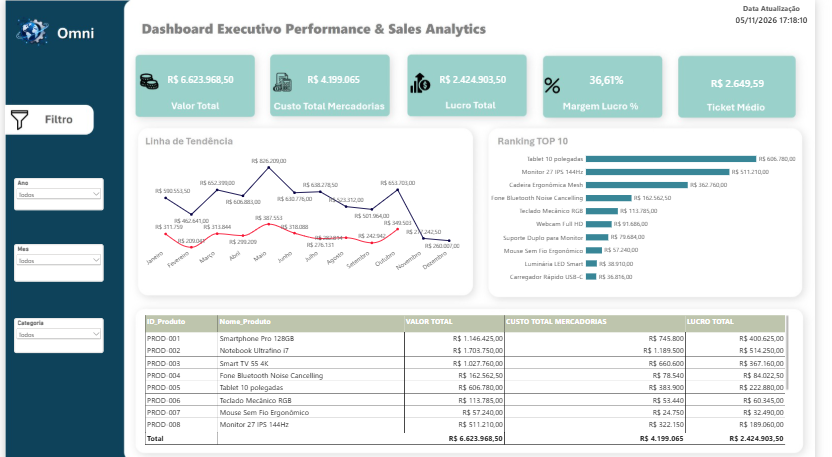

The dashboard page shown, as its layout file describes it:
{"tool":"powerbi","page":{"name":"Painel Gerencial","canvas":[2700,1550],"ordinal":0},"visuals":[{"type":"cardVisual","fields":{"Data":["Medidas.VALOR TOAL"]},"box":[501.9,187.9,297.6,154.3],"z":0},{"type":"cardVisual","fields":{"Data":["Medidas.MARGEM LUCRO %"]},"box":[1871.2,200.8,270.3,128.7],"z":1000},{"type":"cardVisual","fields":{"Data":["Medidas.CUSTO TOTAL MERCADORIAS"]},"box":[952.3,200.8,285.7,128.7],"z":2000},{"type":"cardVisual","fields":{"Data":["Medidas.LUCRO TOTAL"]},"box":[1423.4,185.3,272.8,157.1],"z":3000},{"type":"cardVisual","fields":{"Data":["Medidas.TICKET MEDIO"]},"box":[2306.2,213.6,270.3,128.7],"z":3001},{"type":"lineChart","title":"LINHA DE TENDÊNCIA","fields":{"Category":["dim_calendario.Nome_Mes"],"Y":["Medidas.VALOR TOTAL","Medidas.FATURAMENTO ANO ANTERIOR"]},"box":[450.4,504.5,1081,435],"z":3002},{"type":"tableEx","fields":{"Values":["fato_vendas.ID_Produto","dim_produtos.Nome_Produto","Medidas.VALOR TOTAL","Medidas.CUSTO TOTAL MERCADORIAS","Medidas.LUCRO TOTAL"]},"box":[450.4,1037.3,2177.5,460.7],"z":3003},{"type":"clusteredBarChart","title":"TOP 10 PRODUTOS","fields":{"Category":["dim_produtos.Nome_Produto"],"Y":["Medidas.VALOR TOTAL"]},"box":[1583.8,479,1068.2,486.5],"z":3004},{"type":"slicer","fields":{"Values":["dim_calendario.Data.Variação.Hierarquia de datas.Ano"]},"box":[30.9,594.6,299,107.6],"z":3005},{"type":"slicer","fields":{"Values":["dim_calendario.Nome_Mes"]},"box":[30.9,813.3,299,125.6],"z":3006},{"type":"slicer","fields":{"Values":["dim_produtos.Categoria"]},"box":[30.9,1060.4,299,116.6],"z":3007},{"type":"cardVisual","fields":{"Data":["Min(Consulta1.Consulta1)"]},"box":[2410,0,290,96.7],"z":3008}]}

Visuals, with their boxes on the page's 2700x1550 design canvas (x1, y1, x2, y2). These are canvas units, not pixel positions in the 832x457 screenshot, which may show the page scaled, cropped or inside an application window:
cardVisual - Medidas.VALOR TOAL: (502,188,800,342)
cardVisual - Medidas.MARGEM LUCRO %: (1871,201,2142,330)
cardVisual - Medidas.CUSTO TOTAL MERCADORIAS: (952,201,1238,330)
cardVisual - Medidas.LUCRO TOTAL: (1423,185,1696,342)
cardVisual - Medidas.TICKET MEDIO: (2306,214,2576,342)
"LINHA DE TENDÊNCIA" lineChart: (450,504,1531,940)
tableEx - fato_vendas.ID_Produto x dim_produtos.Nome_Produto: (450,1037,2628,1498)
"TOP 10 PRODUTOS" clusteredBarChart: (1584,479,2652,966)
slicer - dim_calendario.Data.Variação.Hierarquia de datas.Ano: (31,595,330,702)
slicer - dim_calendario.Nome_Mes: (31,813,330,939)
slicer - dim_produtos.Categoria: (31,1060,330,1177)
cardVisual - Min(Consulta1.Consulta1): (2410,0,2700,97)
